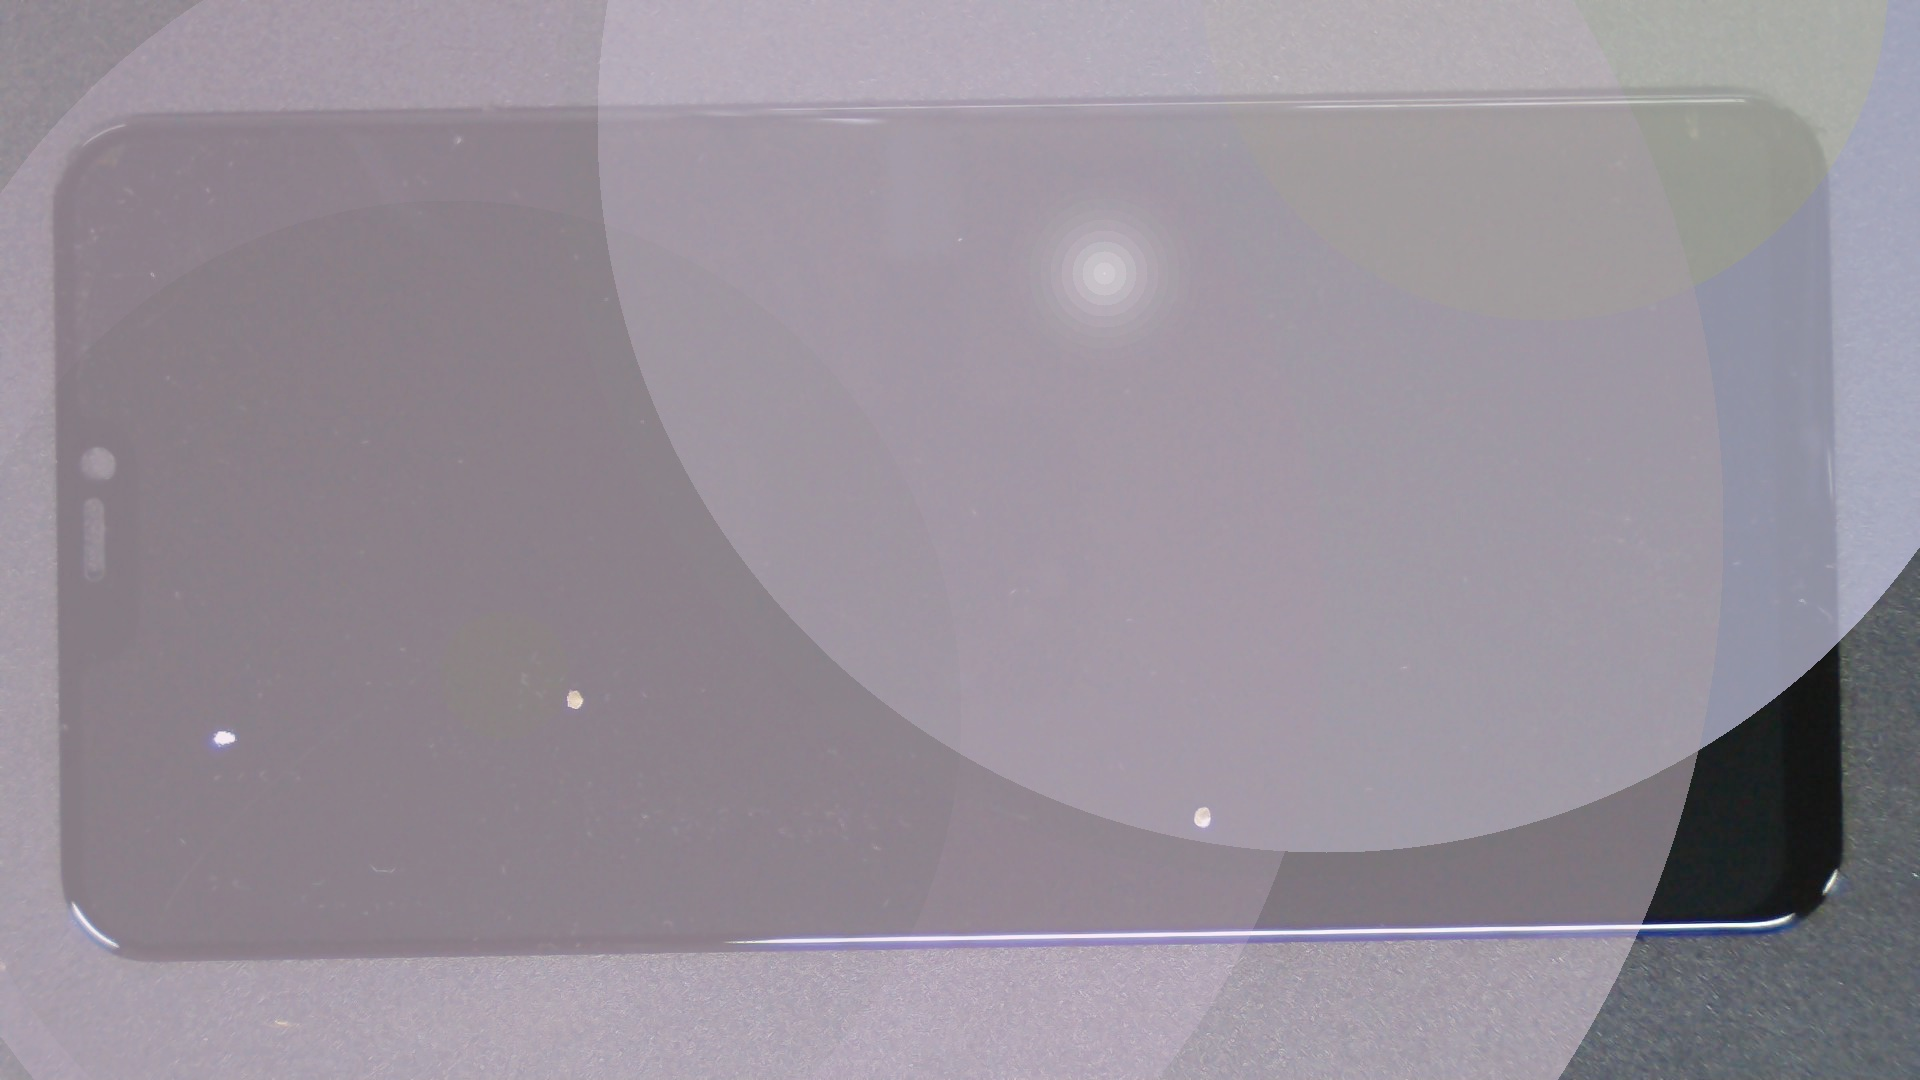oil: (604, 402, 1808, 1080), (285, 343, 853, 1030), (113, 363, 338, 1080)
